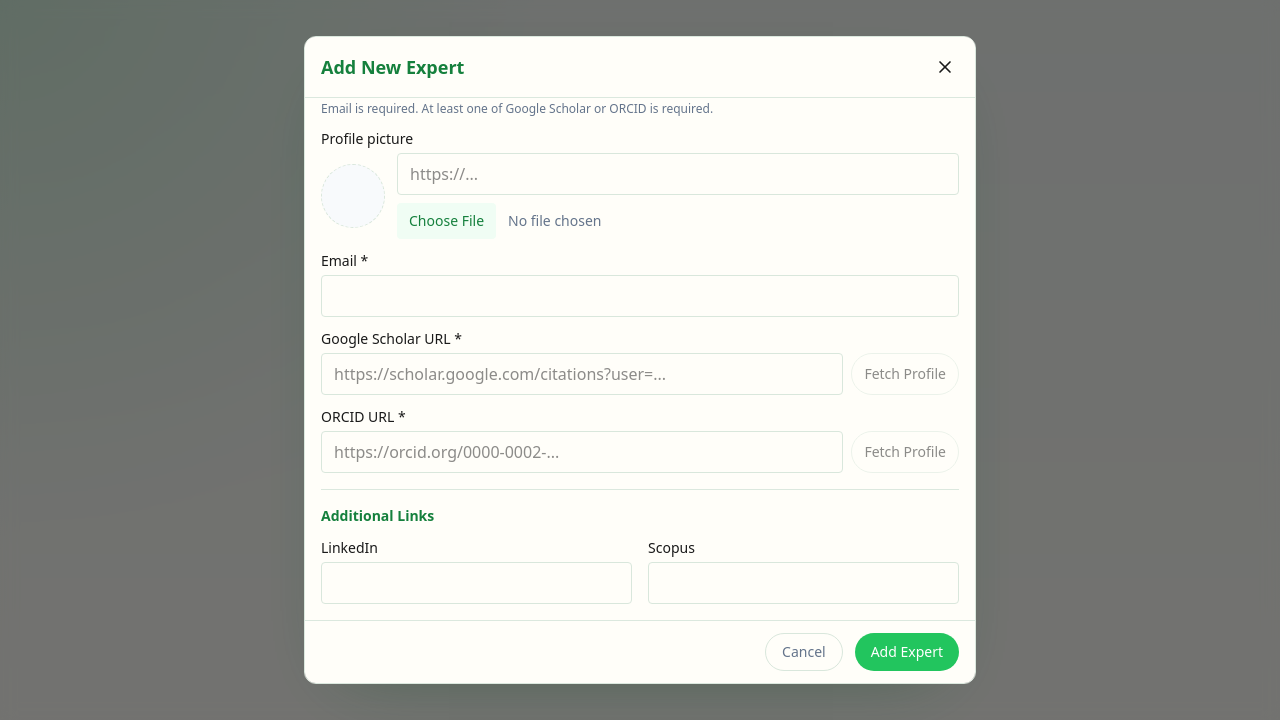
Test case: AddExpertModal › shows validation errors for required fields
(page scrolled)
Step 1. Click the button "Add Expert" → click(907, 652), box [855,633,959,671]
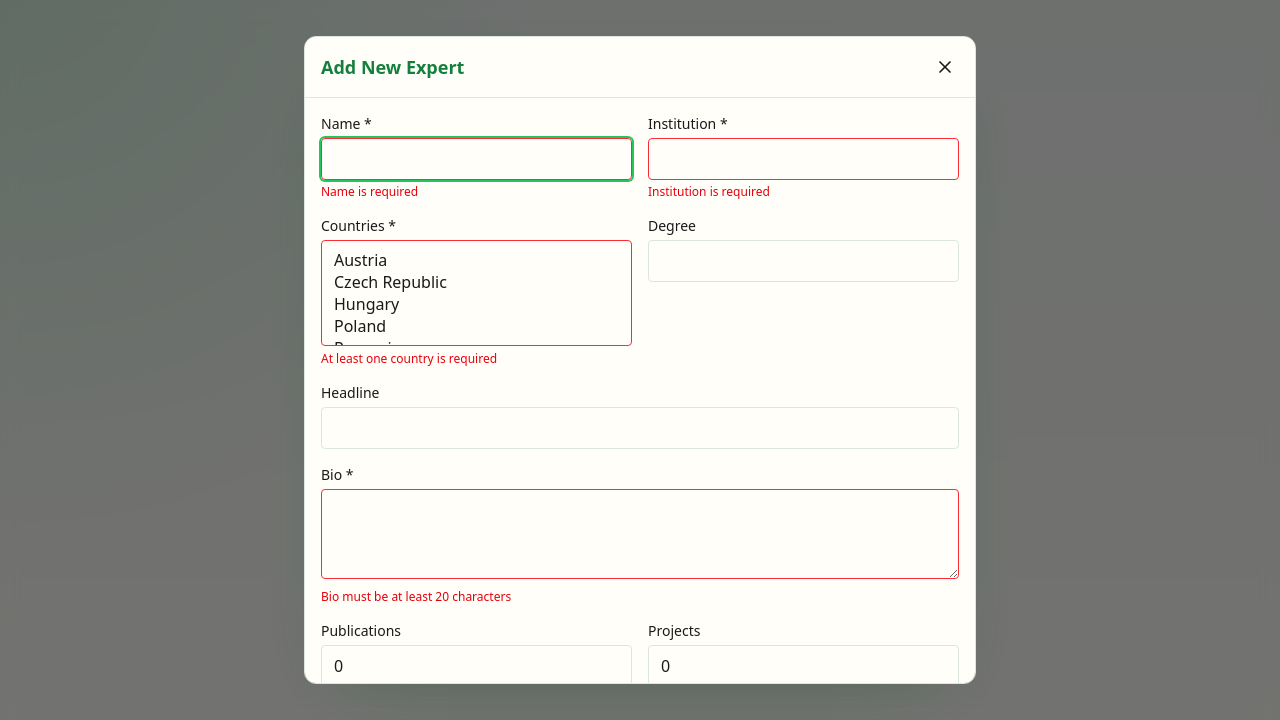
Now the text "Name is required" is shown, box [321,183,418,200]
